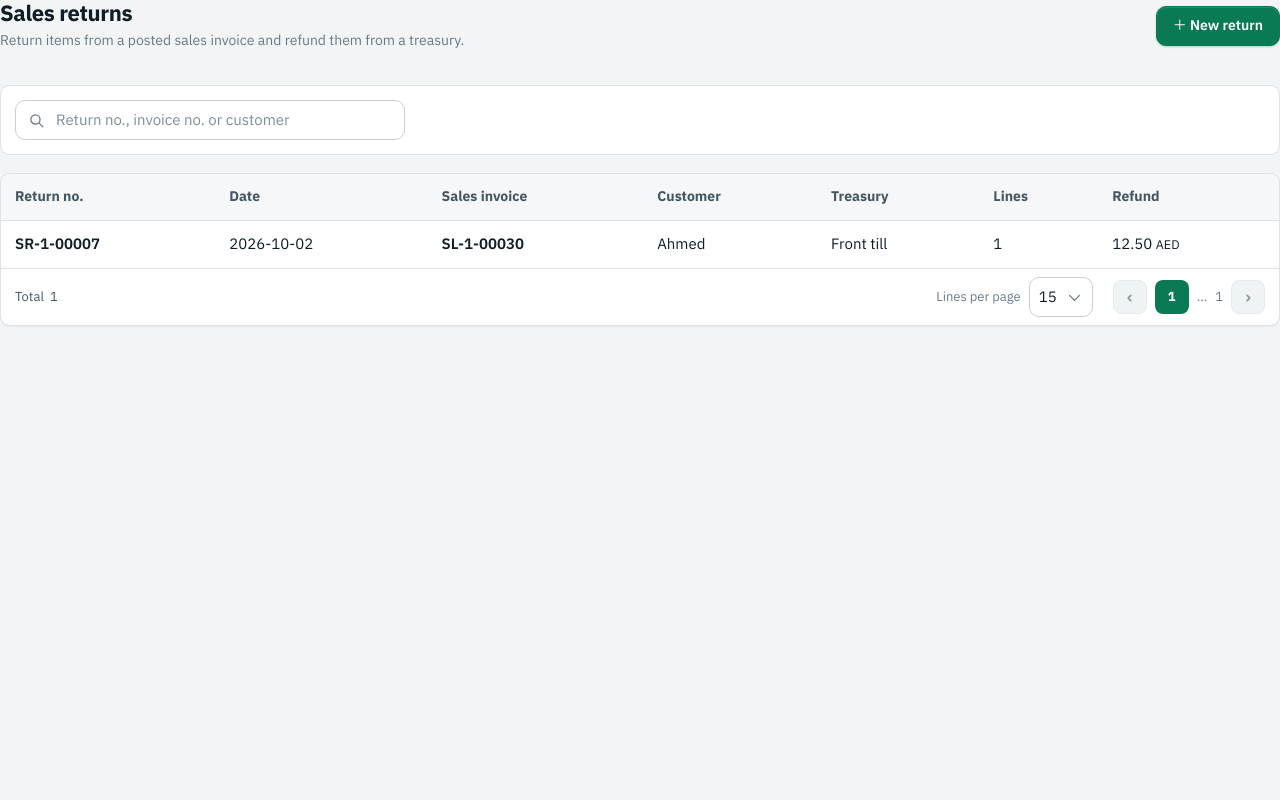
Scenario: SalesReturnsPage › credits a customer invoice to the customer without a treasury
The width and height of the screenshot is (1280, 800).
Click the button "＋ New return" at coordinates (1218, 26), box [1156, 6, 1279, 46]
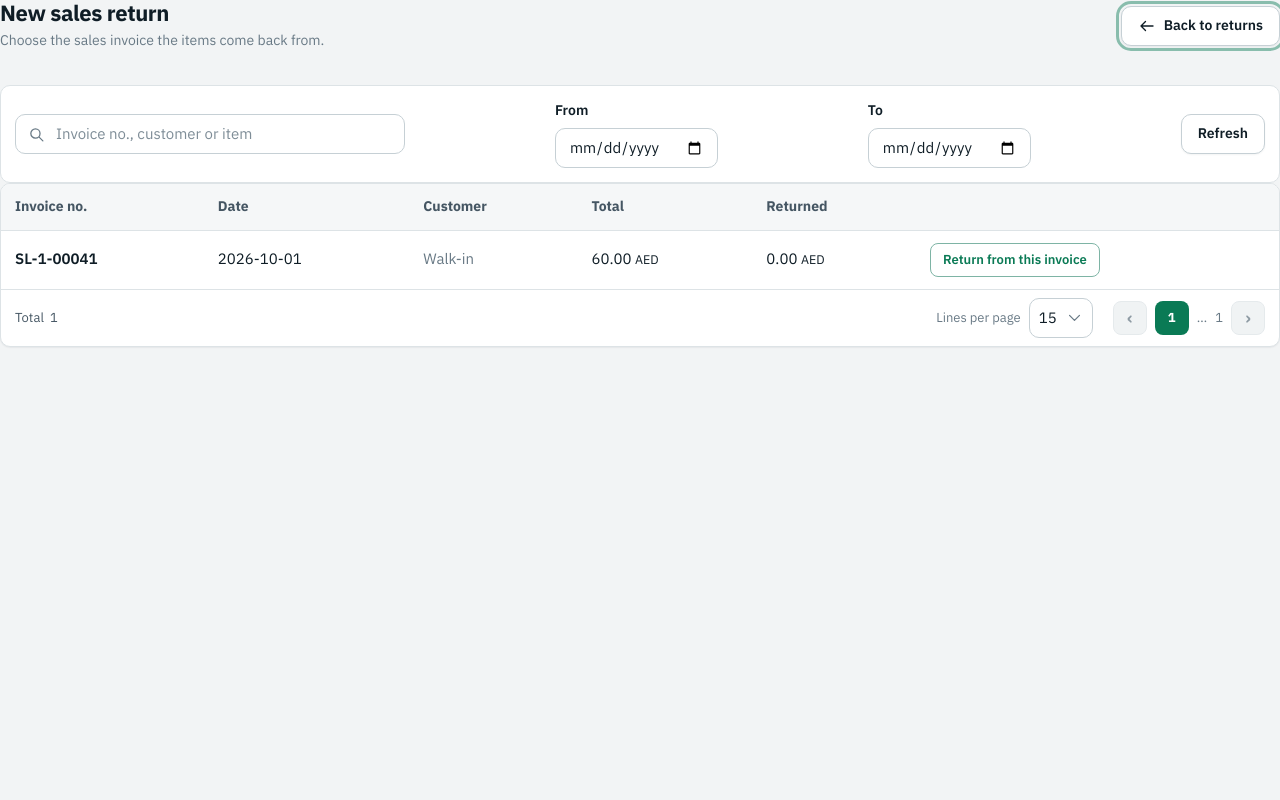
Click the button "Return from this invoice" at coordinates (1015, 260), box [930, 243, 1100, 277]
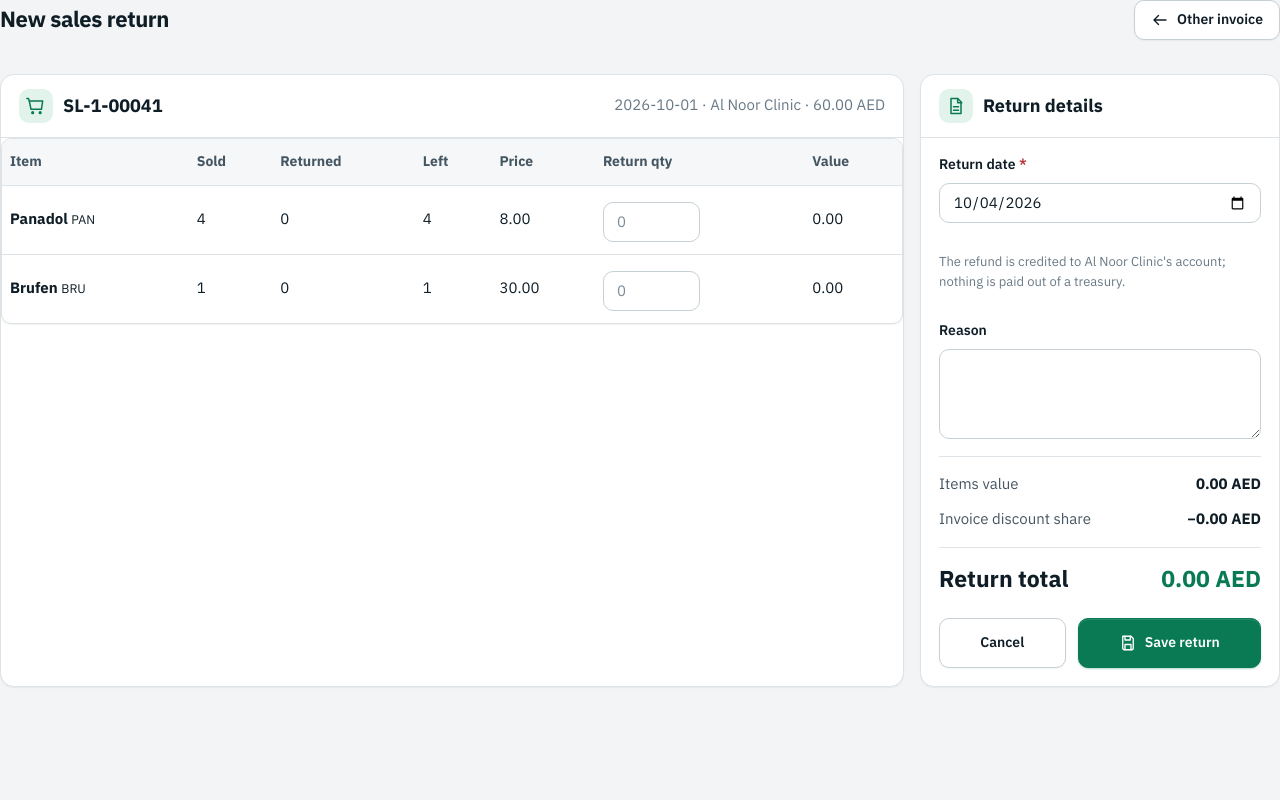
Result: the heading "SL-1-00041" is shown at [63, 92, 162, 120]
Result: the text "credited to Al Noor Clinic's account" is shown at [939, 252, 1226, 290]
Type "2" into the number field named "Return quantity for Panadol" at coordinates (652, 222), box [603, 202, 700, 242]
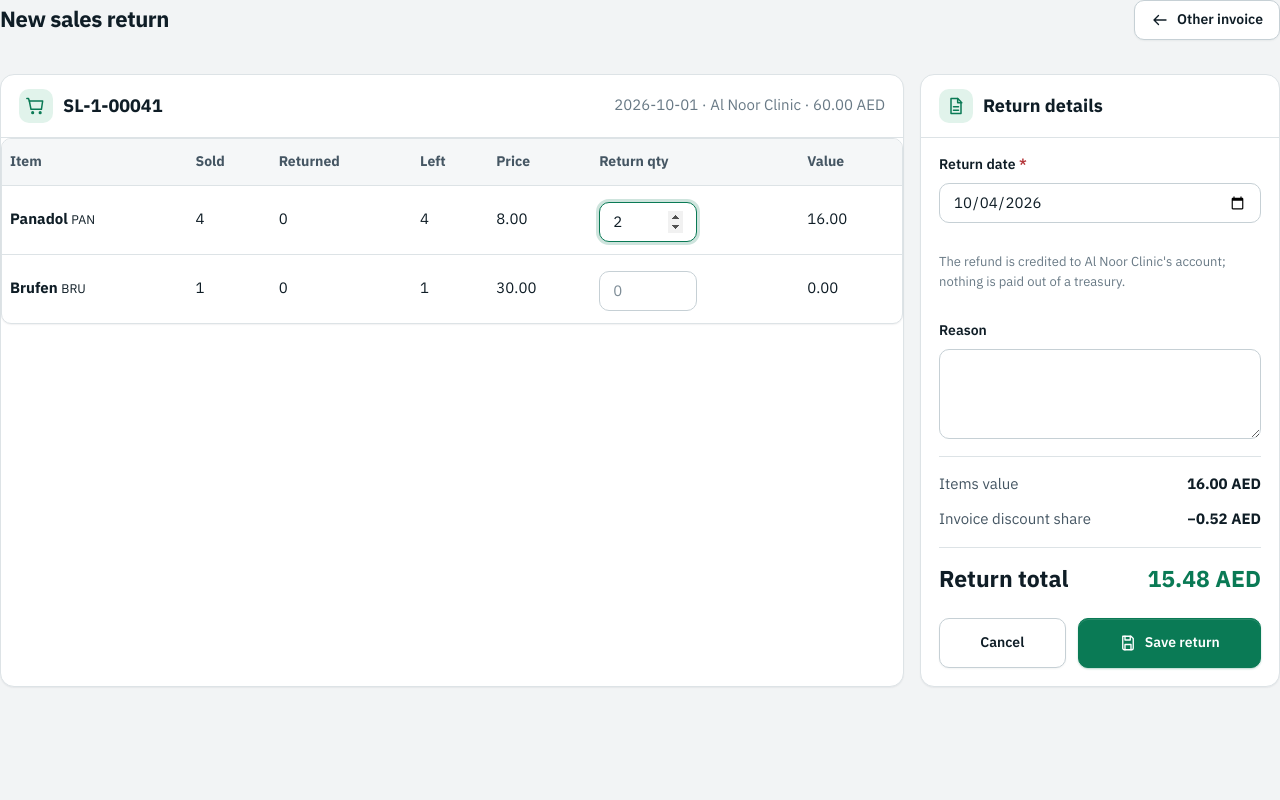
Click the button "Save return" at coordinates (1169, 643), box [1078, 618, 1261, 668]
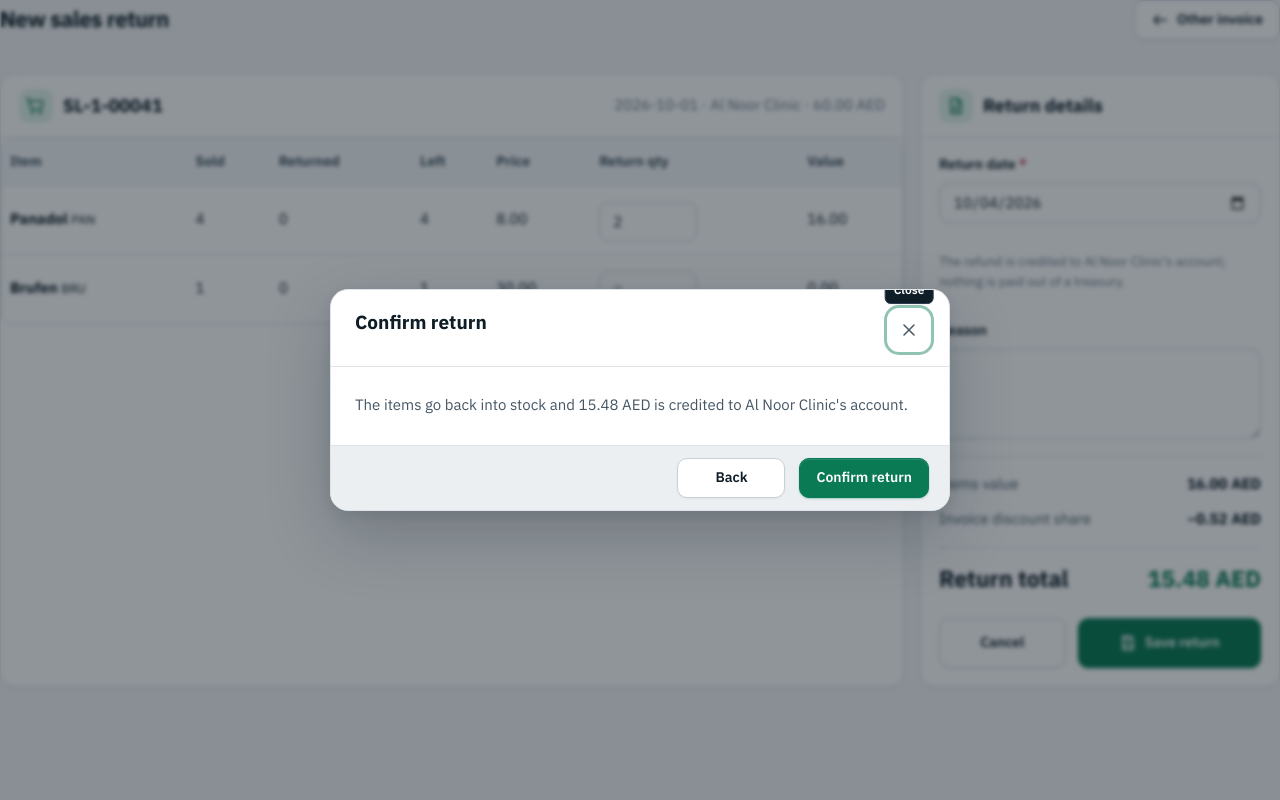
Result: the dialog shows "15.48 AED is credited to Al Noor Clinic's account" at [355, 394, 908, 416]
Click the button "Confirm return" at coordinates (864, 478), box [800, 458, 929, 498]
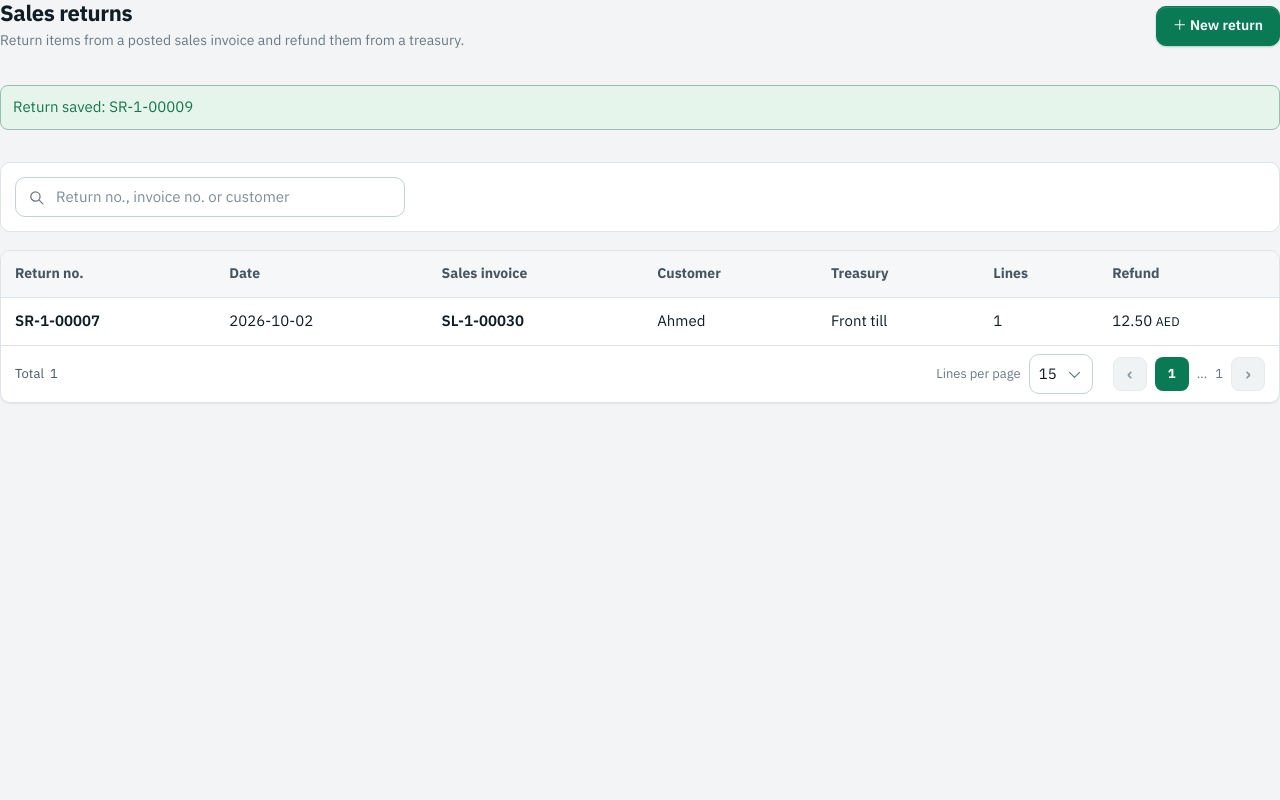
Result: the text "Return saved: SR-1-00009" is shown at [0, 85, 1279, 130]
